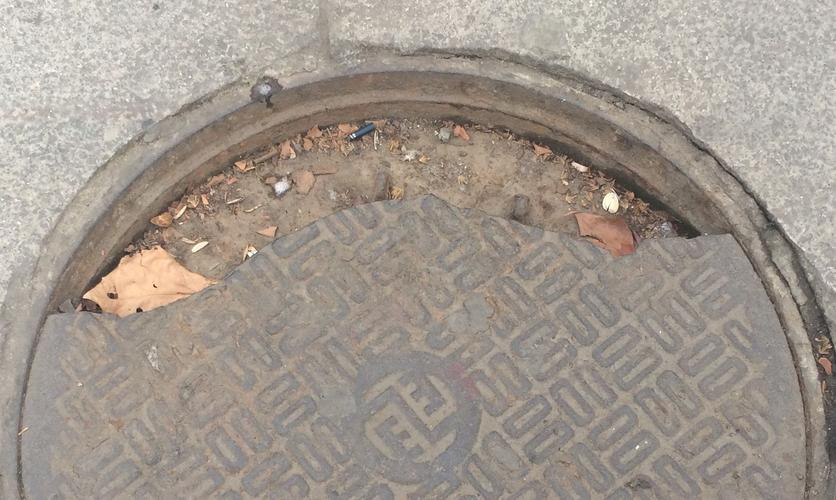broke: (10, 30, 830, 487)
